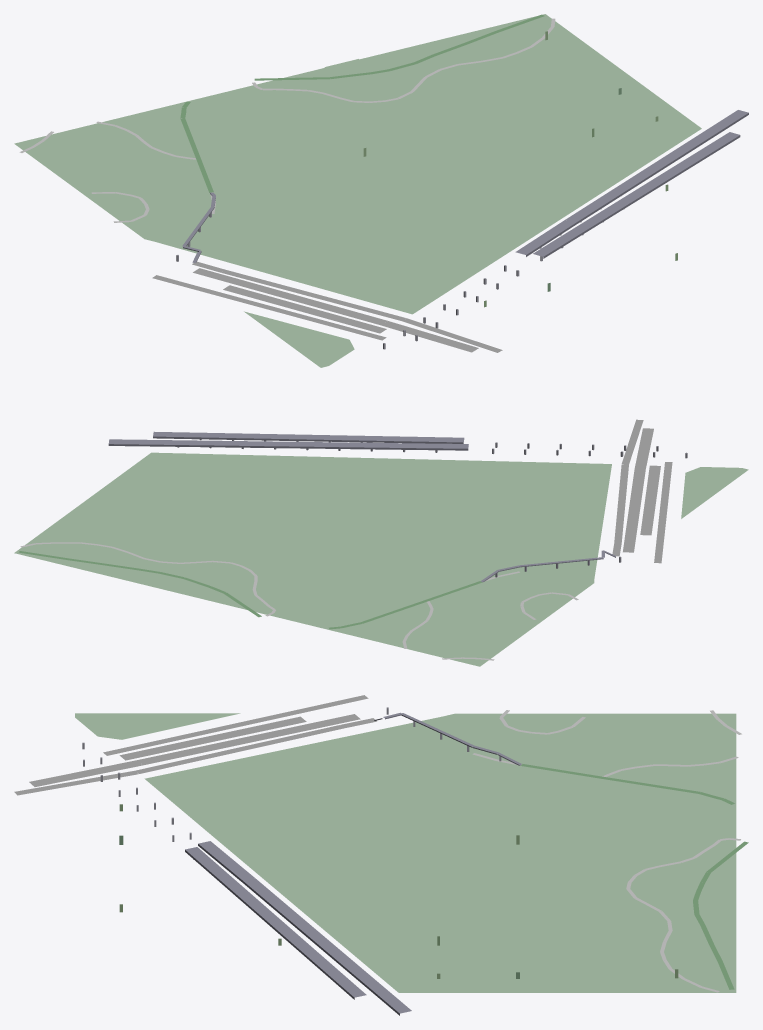
3 views of the same model, one above another, from view 1: azimuth 30°, elevation 25°; view 2: azimuth 150°, elevation 25°; view 3: azimuth 270°, elevation 25° (orthographic). The views are drawn at different scales.
Size of the model in its own units: 577 by 8.92 by 556.
